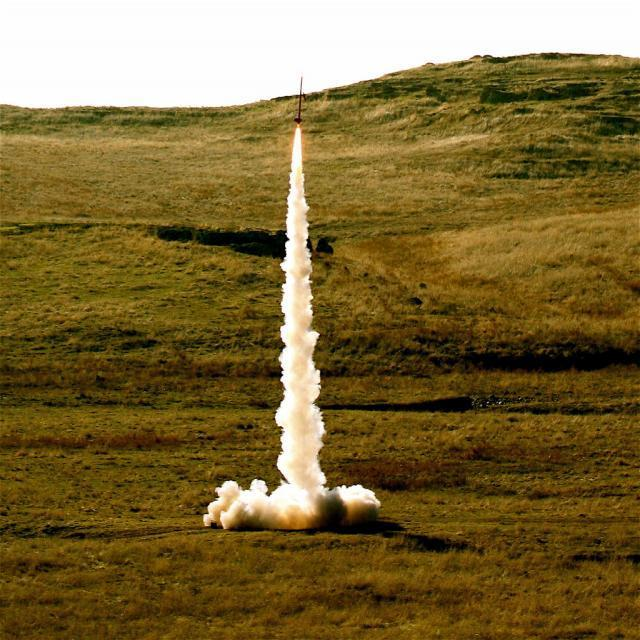Missile: (294, 75, 305, 124)
